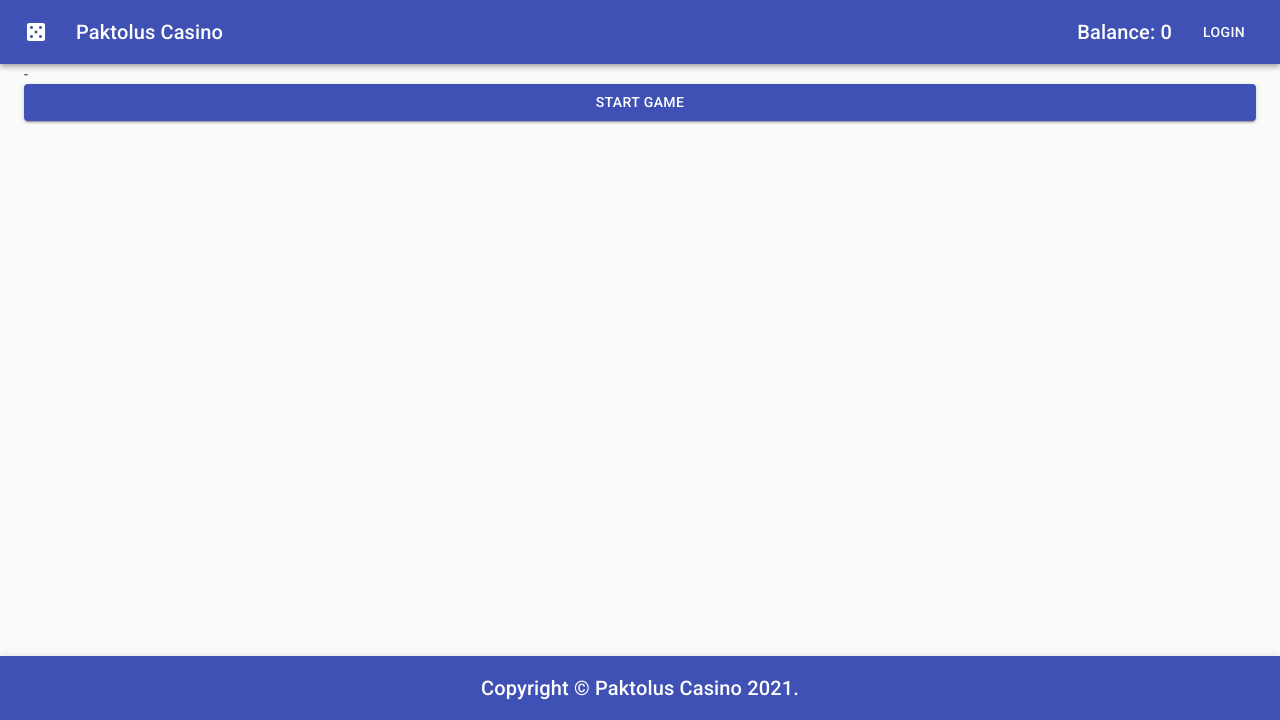
Test: Button 'Start Game' Click opens Modal
Click the button "Start Game".
click(640, 102)  # box [24,84,1256,120]
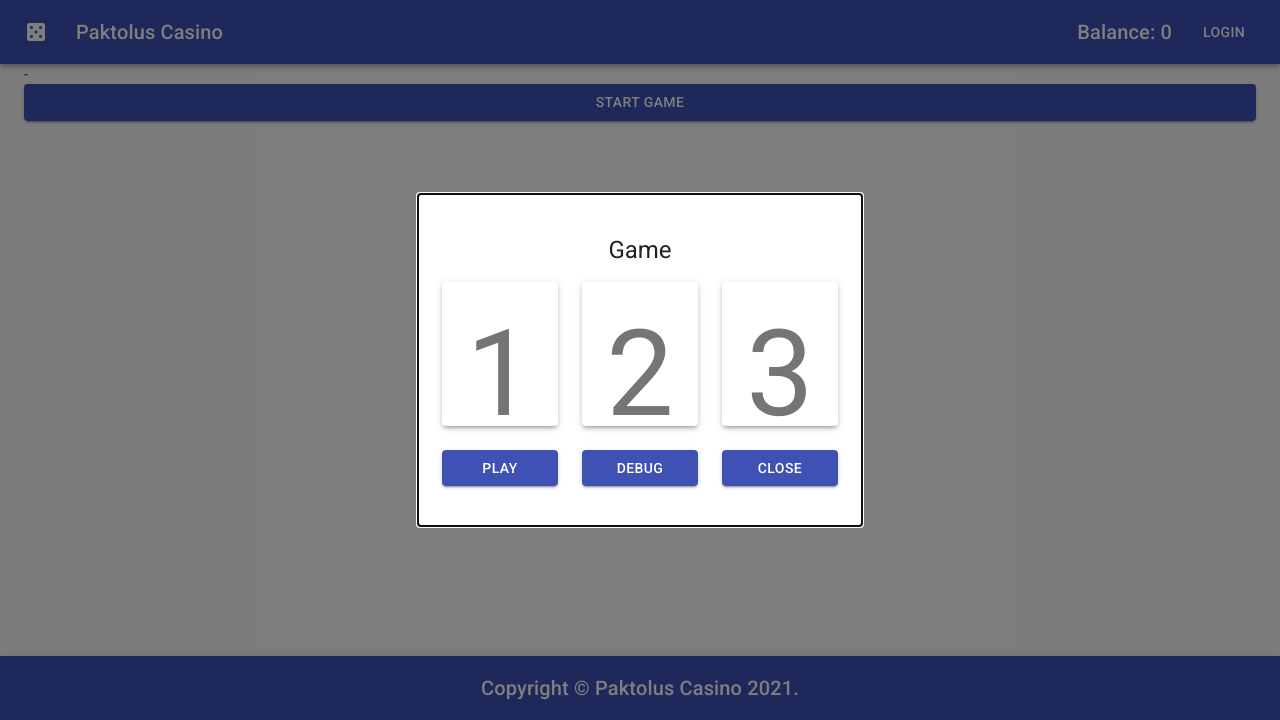
Check: the heading "Game" is shown, box [608,234,672,266]
Check: the text "Play" is shown, box [482,460,518,476]
